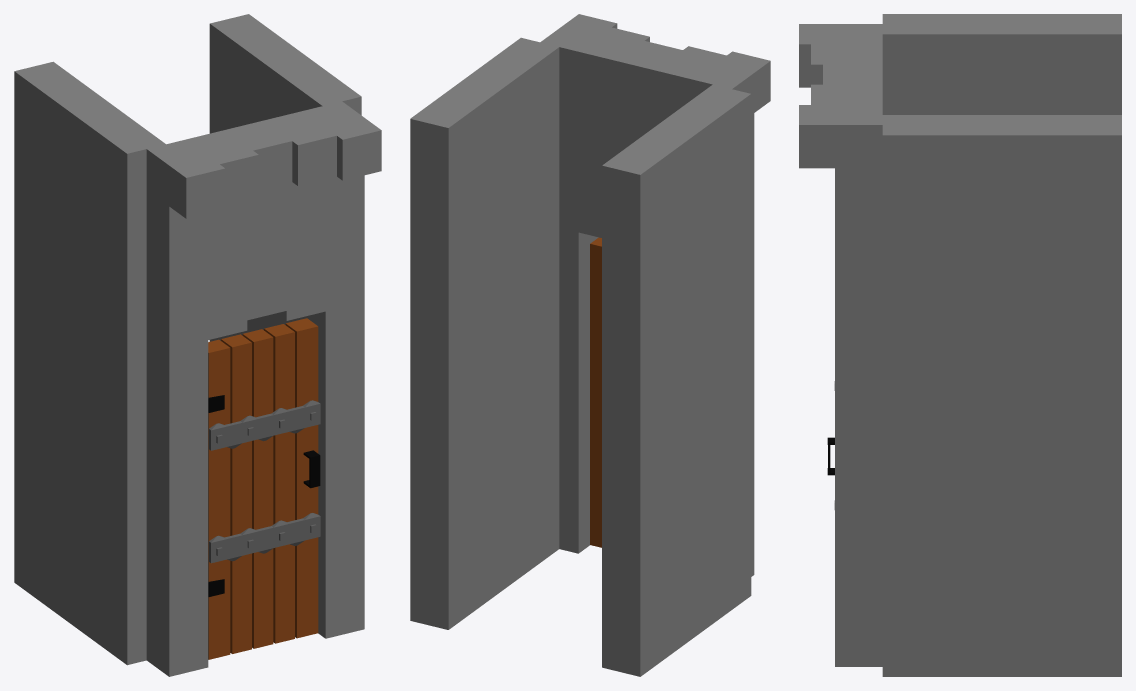
The model's file is DOOR.fbx.
3 renders of one model, left to right at view 1: azimuth 30°, elevation 25°; view 2: azimuth 150°, elevation 25°; view 3: azimuth 270°, elevation 25°, orthographic. The views are drawn at different scales.
Visible parts, largest first — view 1: Cube, Cube.002, Cube.001, Cube.005, Cube.003, Cube.004, Cube.006, Cube.007, Cube.009, Cube.010; view 2: Cube.001, Cube.002, Cube, Cube.005; view 3: Cube.001, Cube, Cube.002.
Boxes of the visible parts, left/top/right/bottom form: Cube: left=146, top=101, right=381, bottom=676; Cube.002: left=14, top=61, right=165, bottom=665; Cube.001: left=209, top=14, right=361, bottom=341; Cube.005: left=285, top=318, right=318, bottom=638; Cube.003: left=242, top=329, right=273, bottom=648; Cube.004: left=264, top=324, right=294, bottom=643; Cube.006: left=221, top=334, right=251, bottom=653; Cube.007: left=208, top=339, right=230, bottom=659; Cube.009: left=209, top=400, right=320, bottom=450; Cube.010: left=209, top=513, right=320, bottom=563; Cube.001: left=410, top=37, right=559, bottom=629; Cube.002: left=602, top=84, right=751, bottom=676; Cube: left=540, top=14, right=770, bottom=576; Cube.005: left=590, top=237, right=601, bottom=547; Cube.001: left=882, top=115, right=1121, bottom=676; Cube: left=799, top=24, right=882, bottom=666; Cube.002: left=882, top=14, right=1121, bottom=114.
Size of the model in its own units: 120 by 250 by 135.
